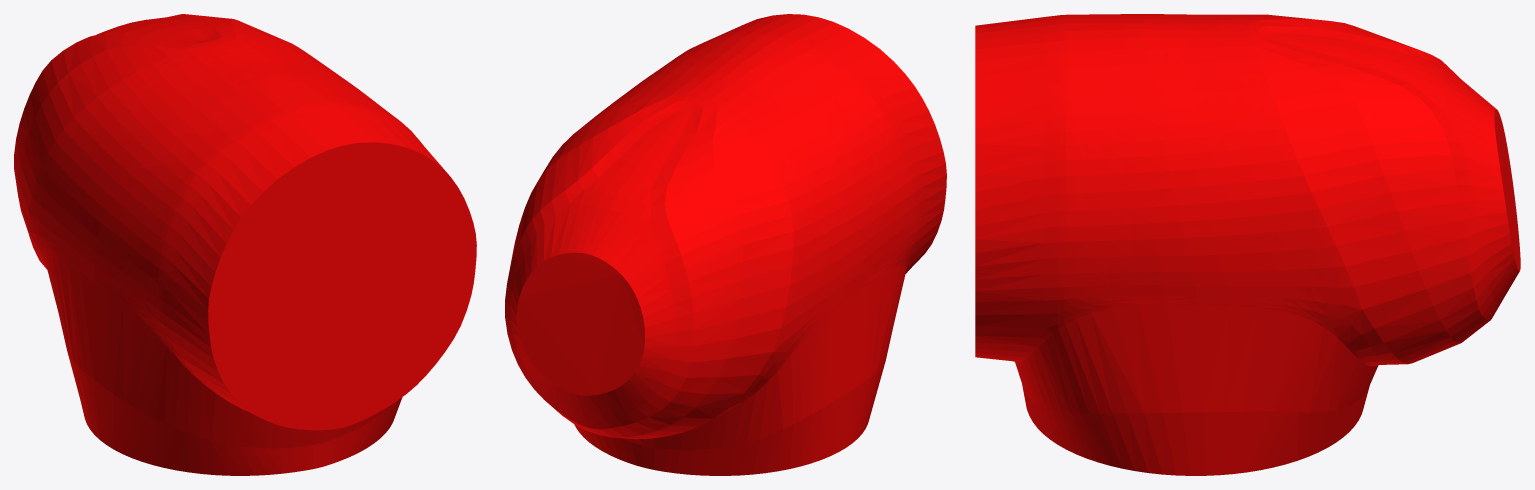
The picture shows the model from 3 angles, left to right: view 1: azimuth 30°, elevation 25°; view 2: azimuth 150°, elevation 25°; view 3: azimuth 270°, elevation 25°; orthographic projection. The views are drawn at different scales.
Parts seen in each view (by area): view 1: MF0609_4_1; view 2: MF0609_4_1; view 3: MF0609_4_1.
Boxes of the visible parts, x1,y1,x2,y2 form: MF0609_4_1: (14,14,476,475); MF0609_4_1: (505,14,946,475); MF0609_4_1: (975,14,1520,475).
Bounding box in the file's own units: 108 × 163 × 124.
